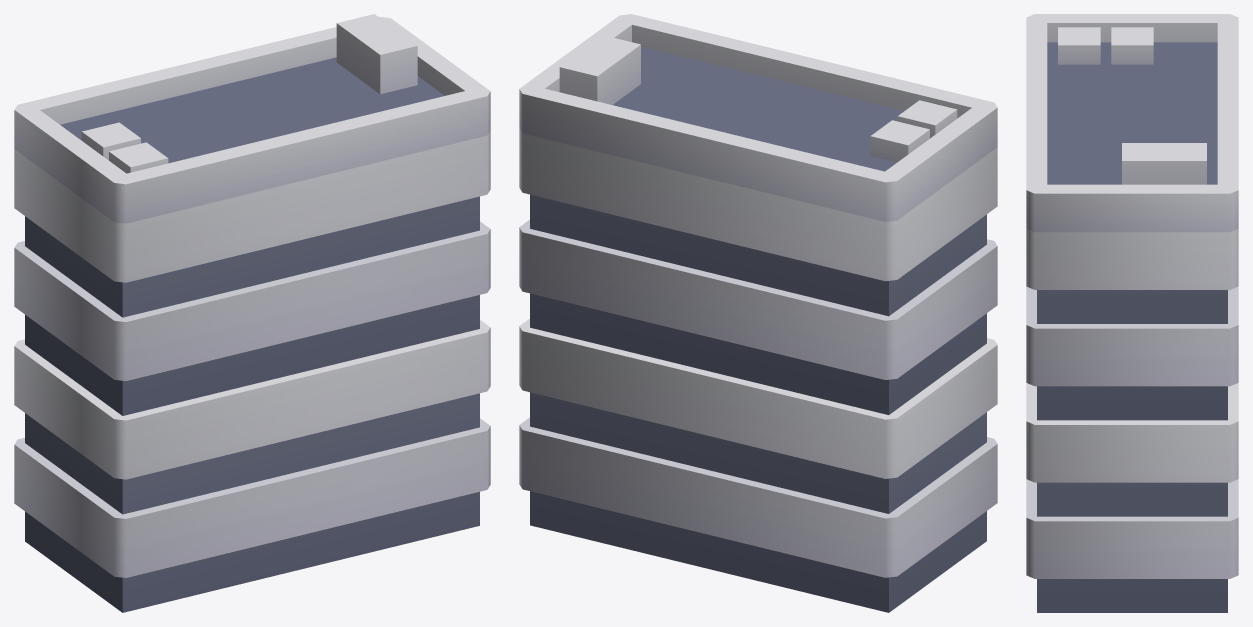
The model's file is kenney-city-commercial-low-detail-building-wide-b.glb.
The picture shows the model from 3 angles, left to right: view 1: azimuth 30°, elevation 25°; view 2: azimuth 150°, elevation 25°; view 3: azimuth 270°, elevation 25°; orthographic projection. The views are drawn at different scales.
Visible parts, largest first — view 1: low-detail-building-wide-b; view 2: low-detail-building-wide-b; view 3: low-detail-building-wide-b.
Boxes of the visible parts, box(x1,y1,x2,y2) form: low-detail-building-wide-b: box(14, 14, 490, 612); low-detail-building-wide-b: box(519, 14, 997, 612); low-detail-building-wide-b: box(1026, 14, 1238, 612).
Bounding box in the file's own units: 1 × 1.15 × 0.4999.
Materials: 1 (1 with a texture image).
